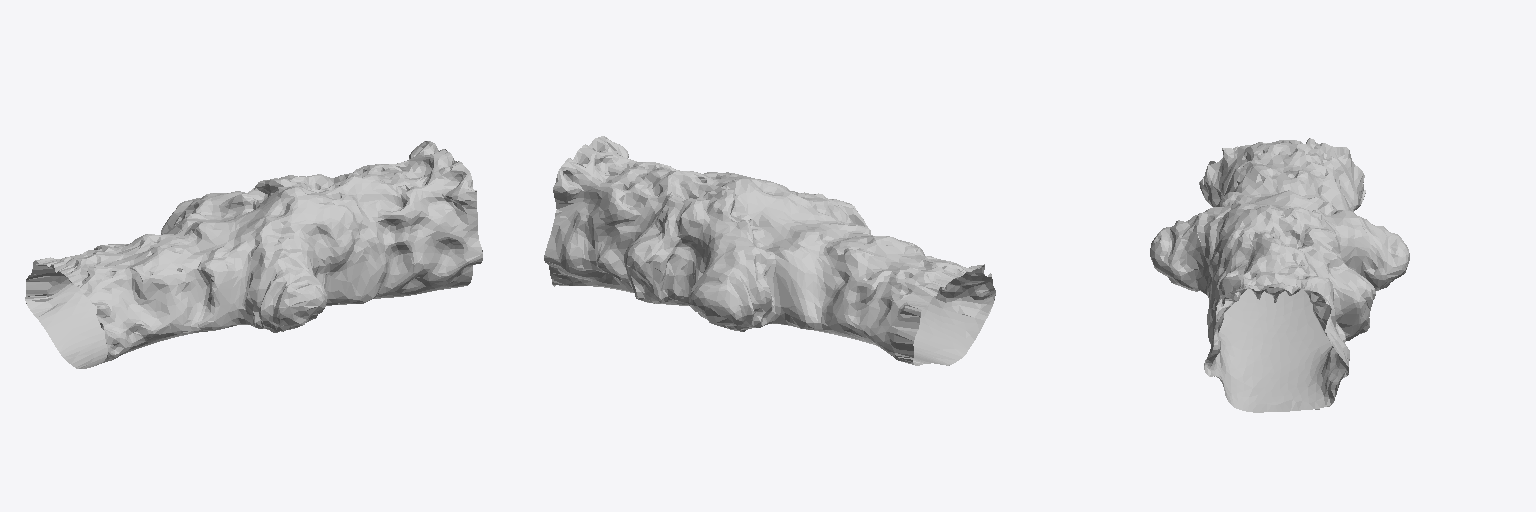
The model's file is m_caveMeshLessTris.obj.
3 views of the same model, side by side, from view 1: azimuth 30°, elevation 25°; view 2: azimuth 150°, elevation 25°; view 3: azimuth 270°, elevation 25° (orthographic).
Parts seen in each view (by area): view 1: cave_mesh:Mesh; view 2: cave_mesh:Mesh; view 3: cave_mesh:Mesh.
Part boxes in pixels (left/top/right/bottom): cave_mesh:Mesh: left=25, top=141, right=482, bottom=368; cave_mesh:Mesh: left=544, top=136, right=995, bottom=365; cave_mesh:Mesh: left=1150, top=138, right=1409, bottom=412.
Size of the model in its own units: 463 by 151 by 277.